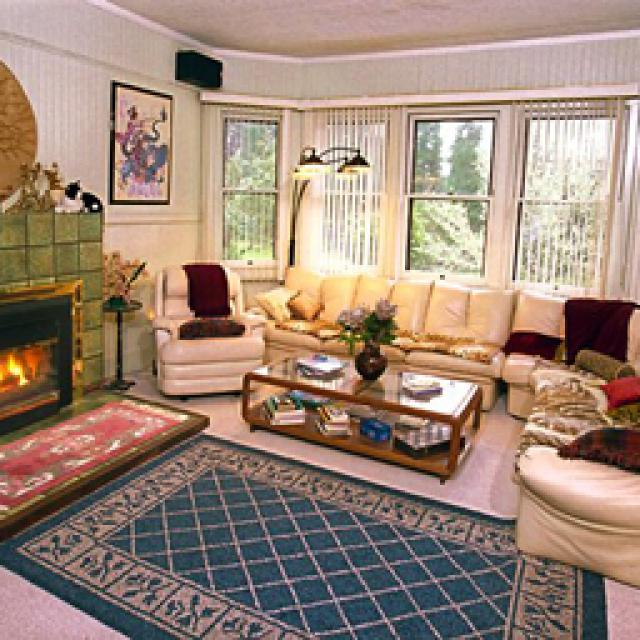2001: (515, 108, 612, 285), (402, 112, 490, 268), (305, 110, 382, 262), (222, 108, 280, 258)
armchair crop: (158, 258, 260, 392)
blanket: (560, 292, 635, 360), (558, 422, 635, 470), (395, 325, 492, 360), (180, 260, 228, 312)
books crop: (258, 388, 305, 422), (312, 402, 350, 432), (398, 380, 440, 395)
bouquet: (332, 300, 392, 378), (100, 248, 150, 302)
box contants: (390, 422, 465, 455), (355, 412, 388, 438)
carpet floor: (0, 385, 202, 522)
cat: (50, 180, 102, 222)
ceiling beam: (111, 0, 635, 52)
decoration -X: (0, 55, 35, 192)
decorations: (5, 160, 58, 202)
fireplace mantle: (0, 278, 75, 422)
lamp crop: (282, 140, 375, 252)
magazines: (290, 352, 342, 378)
painting crop: (108, 80, 170, 200)
pillow occluded: (500, 328, 560, 360), (572, 342, 630, 375), (585, 372, 635, 408), (250, 280, 292, 322), (280, 285, 320, 318)
rug -partially obscured-: (0, 428, 602, 638), (0, 395, 185, 510)
small table part: (240, 345, 478, 472), (92, 298, 140, 388)
sofa bed: (258, 260, 638, 582)
speaker: (172, 45, 220, 80)
